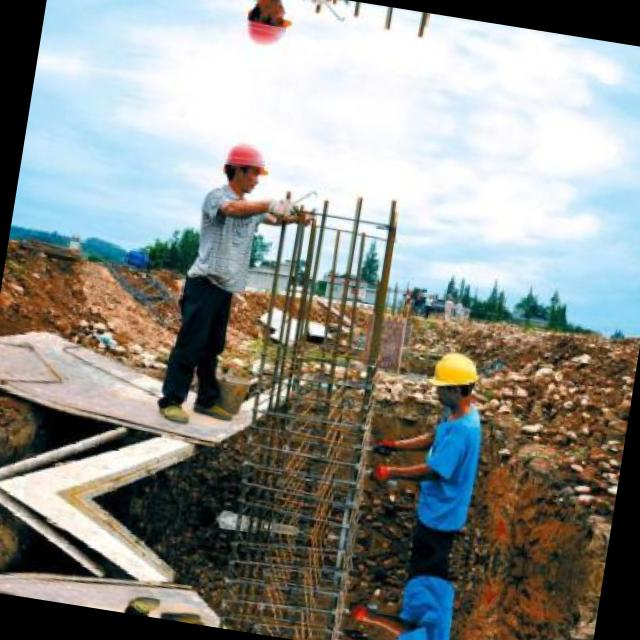helmet: (214, 131, 276, 199), (426, 346, 486, 412), (236, 0, 299, 56)
